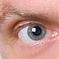eye: (28, 26, 45, 40)
